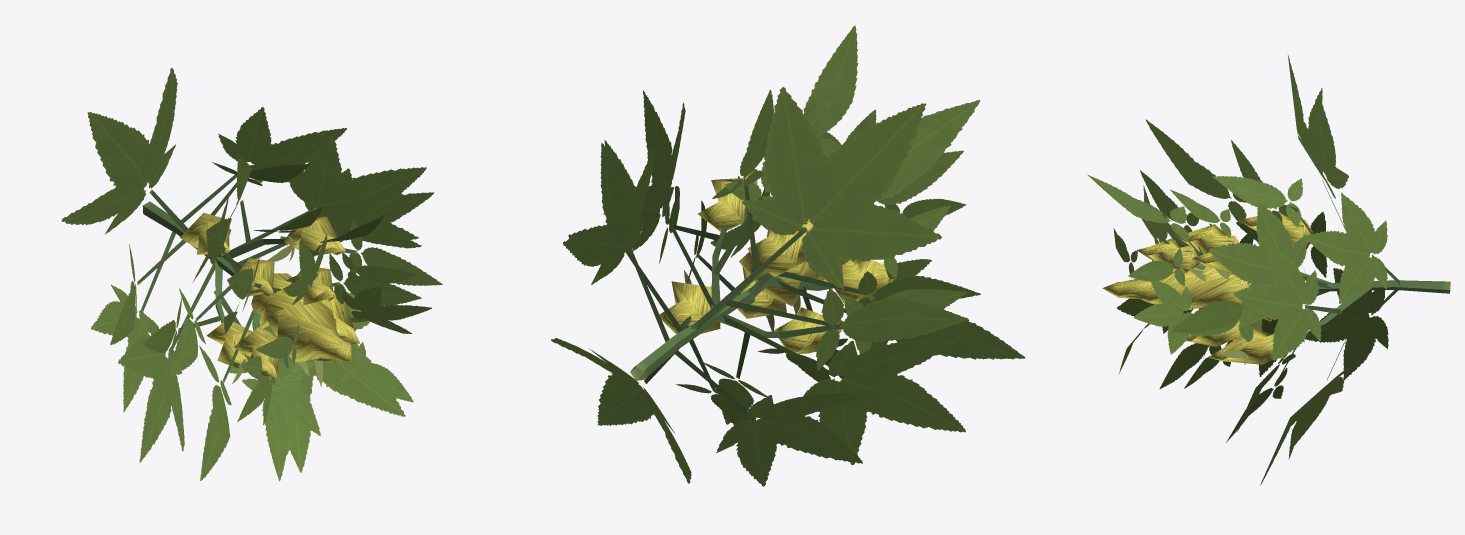
File: p_gold_auto_flowering_c0_cards.obj
3 views of the same model, side by side, from view 1: azimuth 30°, elevation 25°; view 2: azimuth 150°, elevation 25°; view 3: azimuth 270°, elevation 25° (orthographic). The views are drawn at different scales.
Bounding box in the file's own units: 1.17 × 1.28 × 0.983.
1 material, 1 textured.
